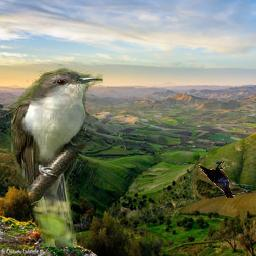Crow: (199, 162, 235, 199)
Cuckoo: (11, 65, 103, 248)
